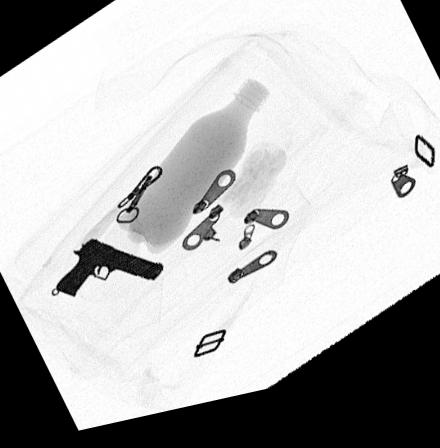Gun: (54, 242, 166, 300)
